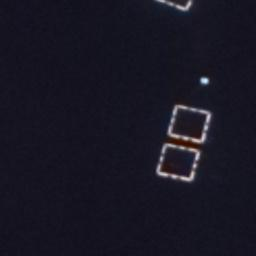square_solid: (151, 140, 204, 187), (164, 101, 214, 148)
